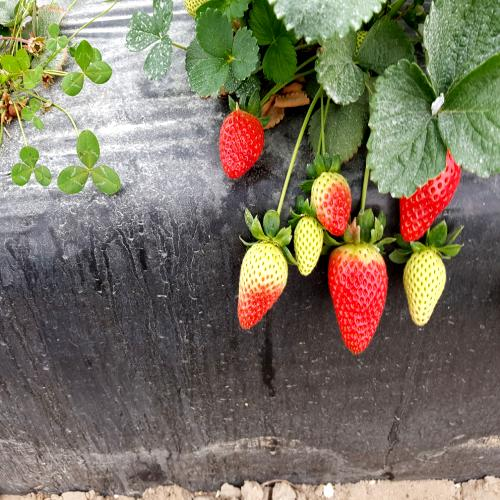ripe: (330, 245, 391, 361), (219, 103, 264, 183)
